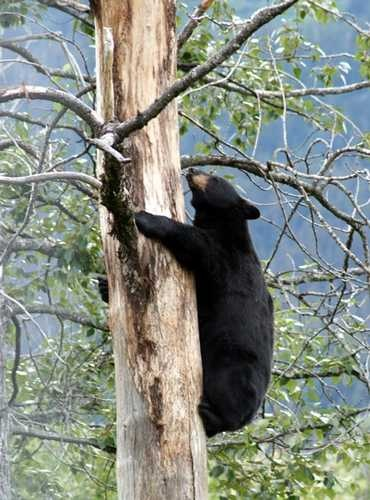bear: (137, 160, 265, 289)
